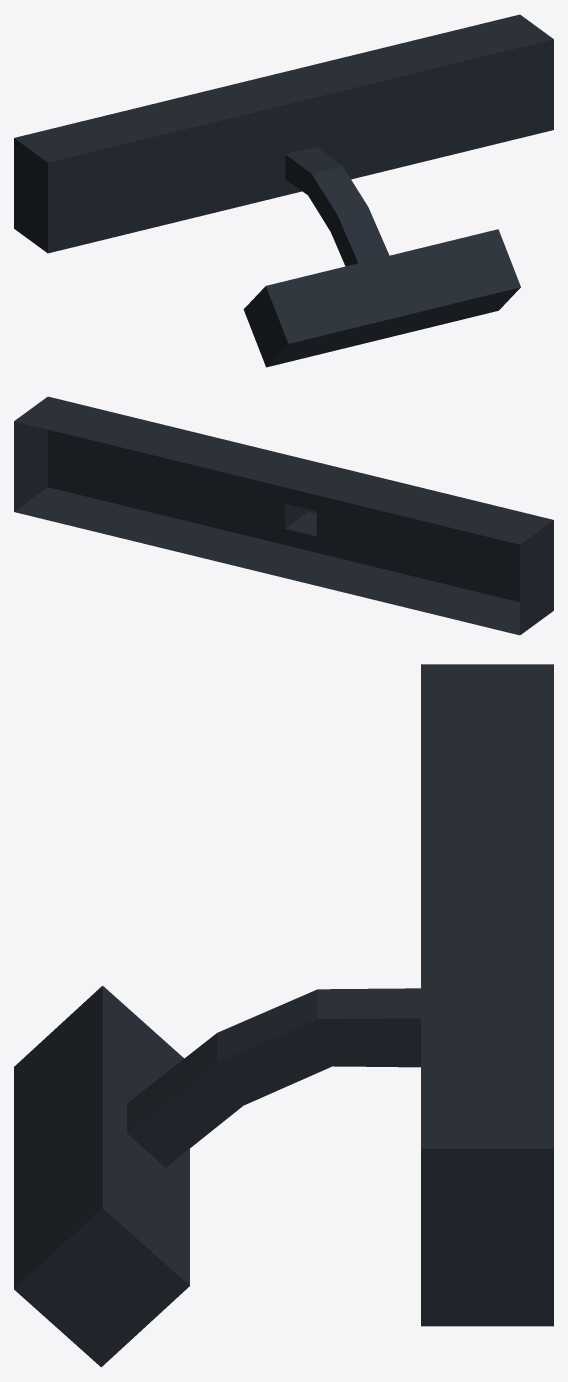
Rendered from SO_picturelight.fbx.
3 views of the same model, one above another, from view 1: azimuth 30°, elevation 25°; view 2: azimuth 150°, elevation 25°; view 3: azimuth 270°, elevation 25° (orthographic). The views are drawn at different scales.
Visible parts, largest first — view 1: picturelight; view 2: picturelight; view 3: picturelight.
Part boxes in pixels (box(x1,y1,x2,y2)): picturelight: box(14, 14, 553, 367); picturelight: box(14, 396, 553, 635); picturelight: box(14, 664, 553, 1367).
Bounding box in the file's own units: 45.75 × 15.41 × 21.56.
